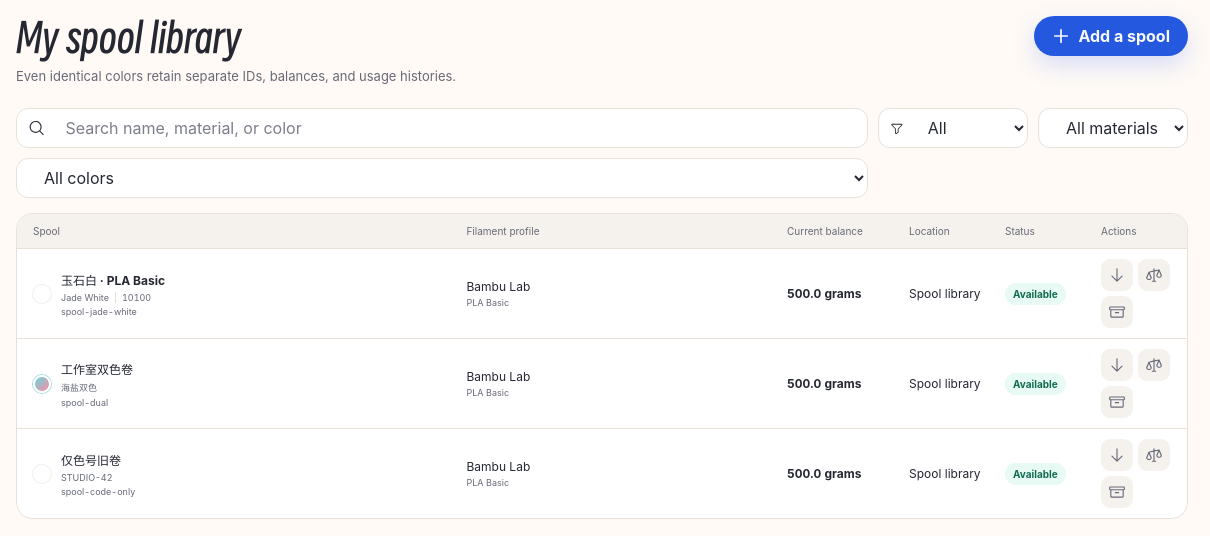
Scenario: resolves official names for the current locale and keeps metadata searchable
Expected: the text "10100" is shown, 115,292 -> 151,303
Expected: the text "海盐双色" is shown, 61,381 -> 97,394
Type "持久化白色" into the field named "Search spools" at x=460, y=128, box 53,109 -> 867,147
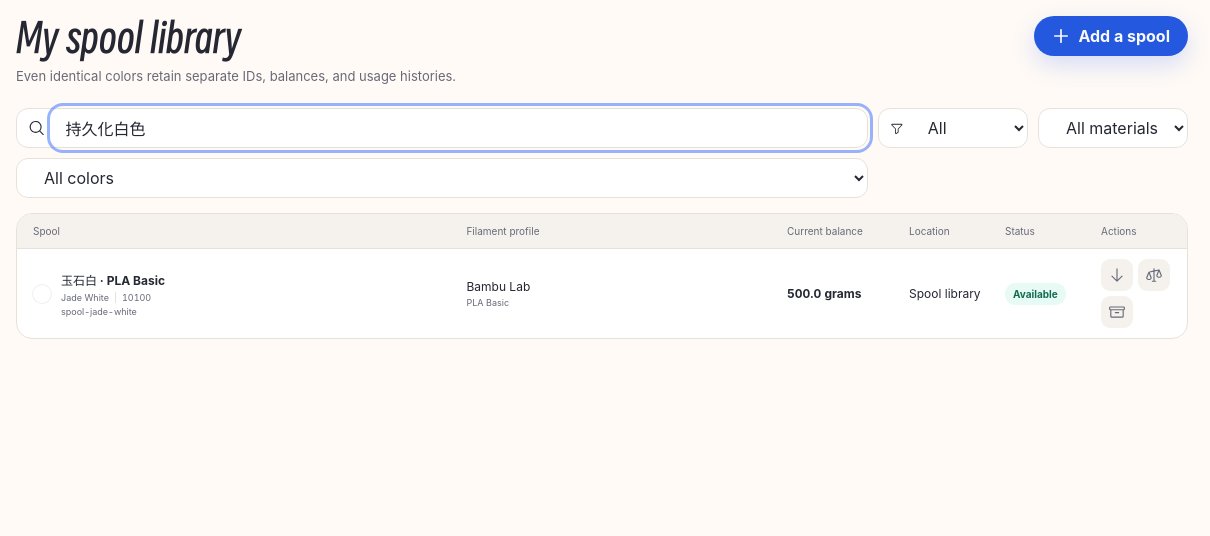
Expected: the text "玉石白 · PLA Basic" is shown, 61,271 -> 165,288
Now the text "工作室双色卷" is gone
Replace the text in the field named "Search spools" with "STUDIO-42" at x=460, y=128, box 53,109 -> 867,147
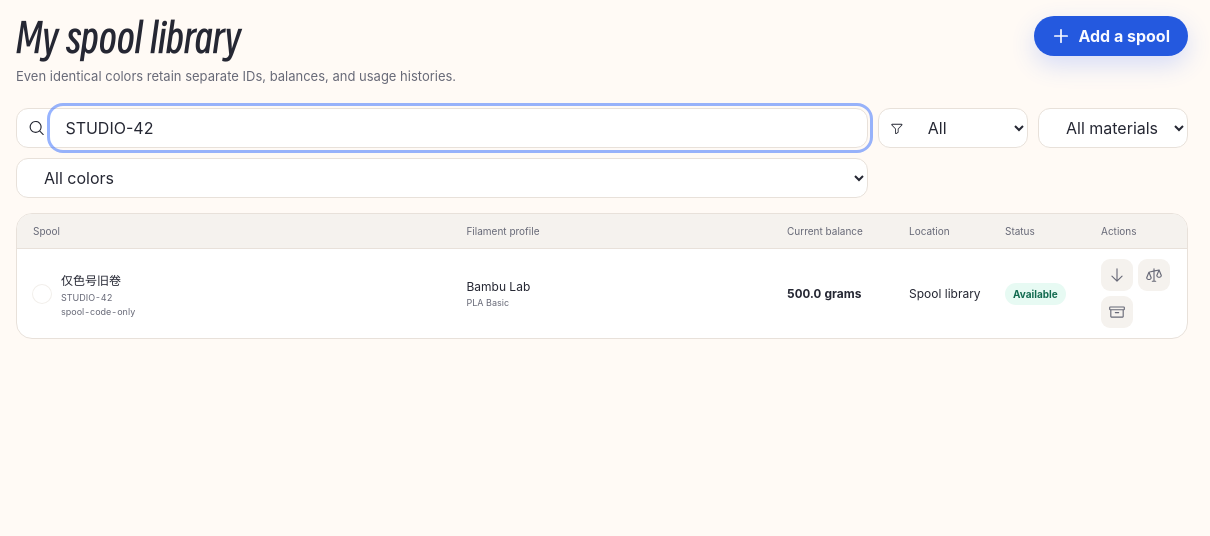
Expected: the text "工作室双色卷" is not shown
Now the text "仅色号旧卷" is shown, box 61,273 -> 121,288
Now the text "玉石白 · PLA Basic" is gone
